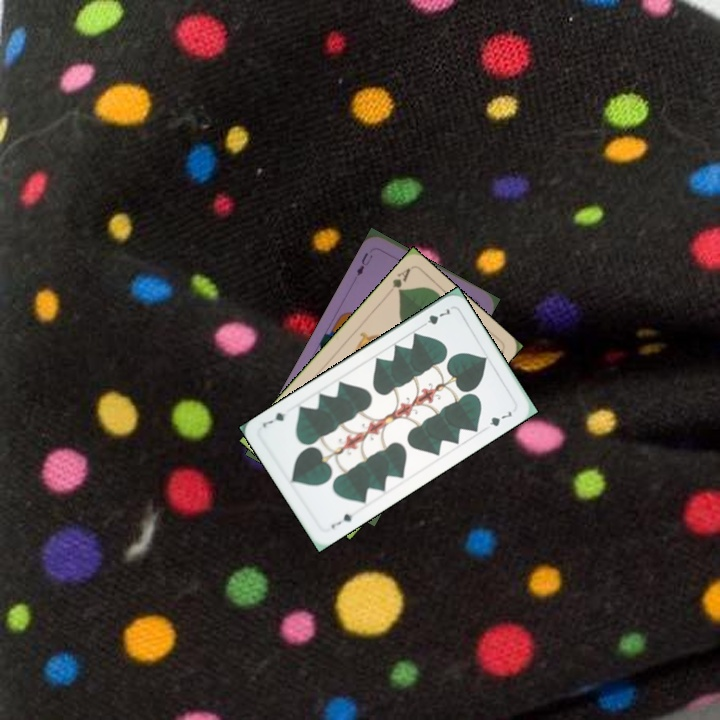EU: (352, 249, 375, 278)
G7: (416, 304, 453, 331), (327, 509, 355, 531)
GA: (388, 264, 413, 297)
